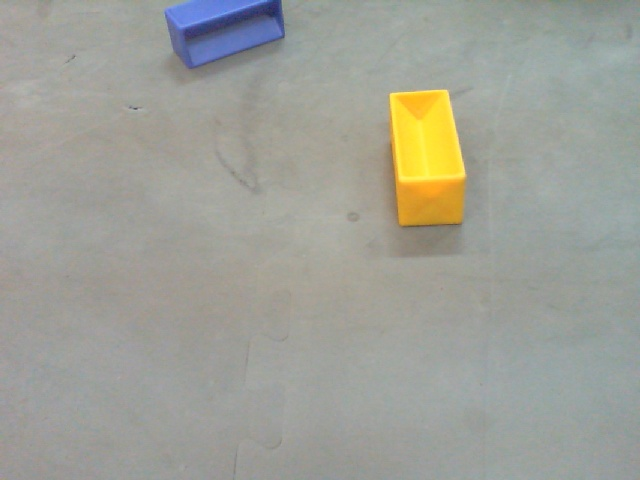BlueSample: (161, 1, 286, 65)
YellowSample: (387, 88, 468, 229)
